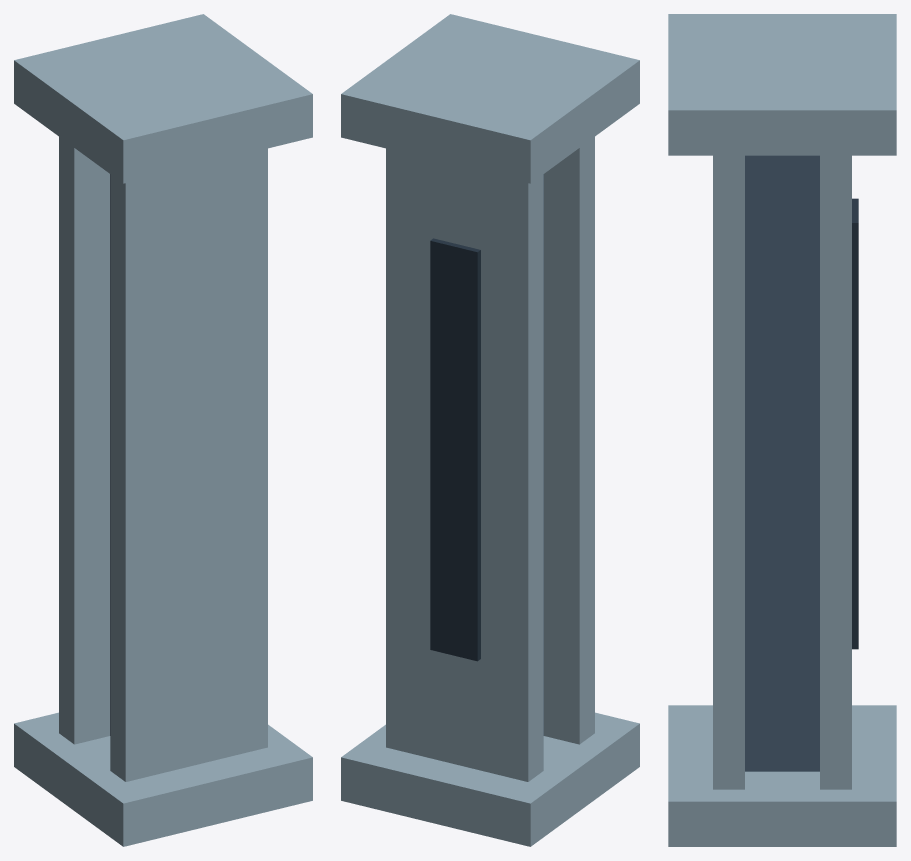
Rendered from elevator_support_column.glb.
The picture shows the model from 3 angles, left to right: view 1: azimuth 30°, elevation 25°; view 2: azimuth 150°, elevation 25°; view 3: azimuth 270°, elevation 25°; orthographic projection. The views are drawn at different scales.
Visible parts, largest first — view 1: elevator_support_column; view 2: elevator_support_column; view 3: elevator_support_column.
Boxes of the visible parts, x1,y1,x2,y2 form: elevator_support_column: (14,14,312,846); elevator_support_column: (341,14,639,846); elevator_support_column: (668,14,896,846).
Size of the model in its own units: 0.64 by 2.28 by 0.64.
